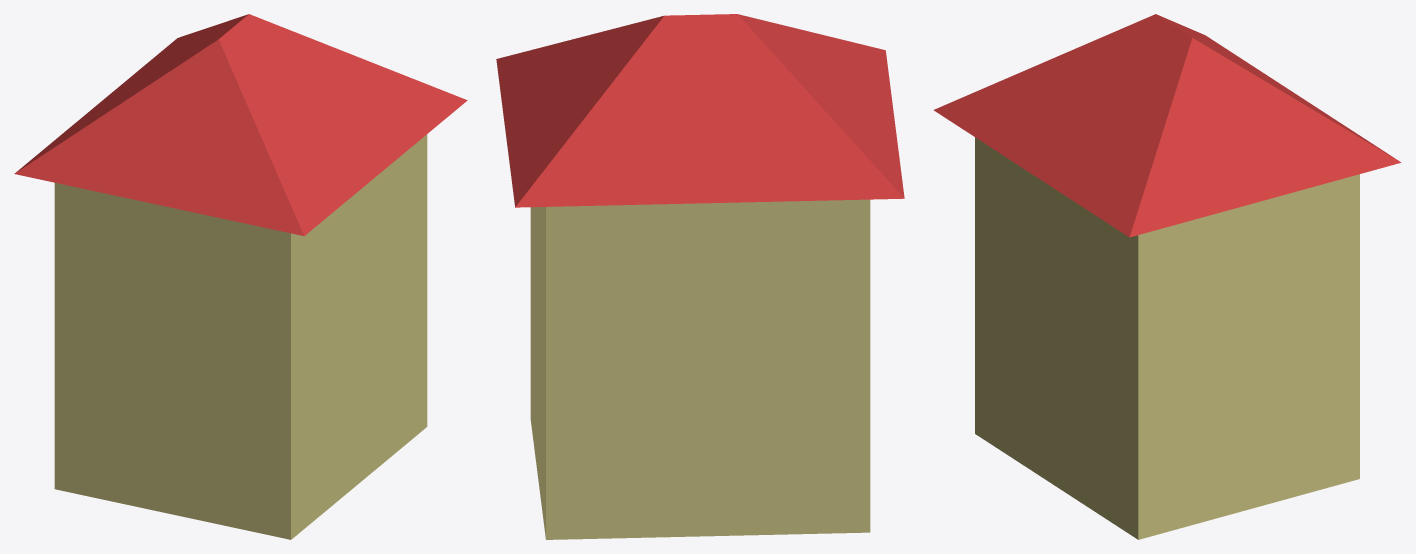
3 views of the same model, side by side, from view 1: azimuth 30°, elevation 25°; view 2: azimuth 150°, elevation 25°; view 3: azimuth 270°, elevation 25° (orthographic). The views are drawn at different scales.
Bounding box in the file's own units: 7.95 × 7.78 × 7.86.
